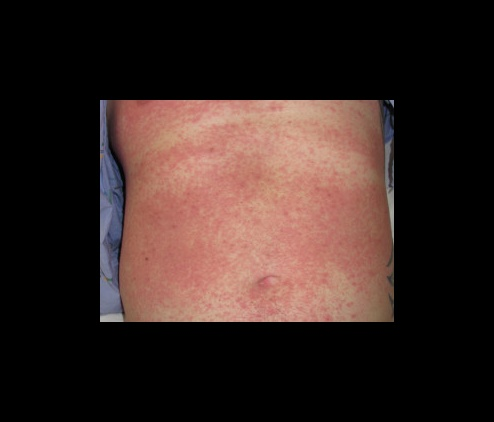SJS-TEN: (119, 117, 396, 327)
